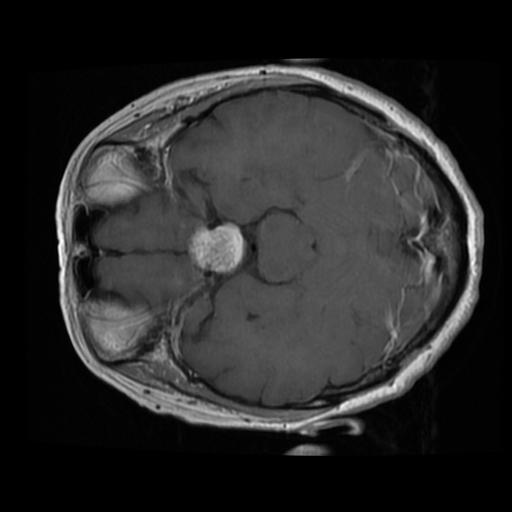pituitary tumour: (187, 223, 245, 276)
